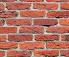brick: (31, 2, 59, 10), (6, 17, 32, 25), (19, 10, 44, 18), (6, 49, 32, 56), (47, 10, 69, 18), (6, 2, 31, 9), (33, 18, 58, 25), (34, 33, 59, 40), (46, 26, 69, 33), (46, 42, 69, 49), (19, 42, 45, 48), (19, 26, 44, 32), (34, 50, 59, 56), (9, 34, 33, 40), (1, 42, 19, 49), (1, 10, 18, 17), (1, 26, 17, 32), (58, 18, 69, 25), (60, 2, 69, 10), (60, 34, 69, 41), (60, 49, 69, 56), (1, 34, 8, 41)
